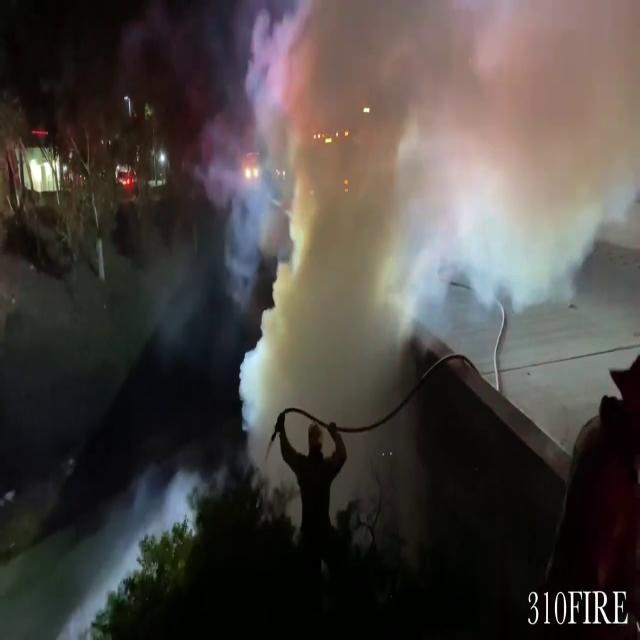Smoke: (238, 0, 640, 500)
